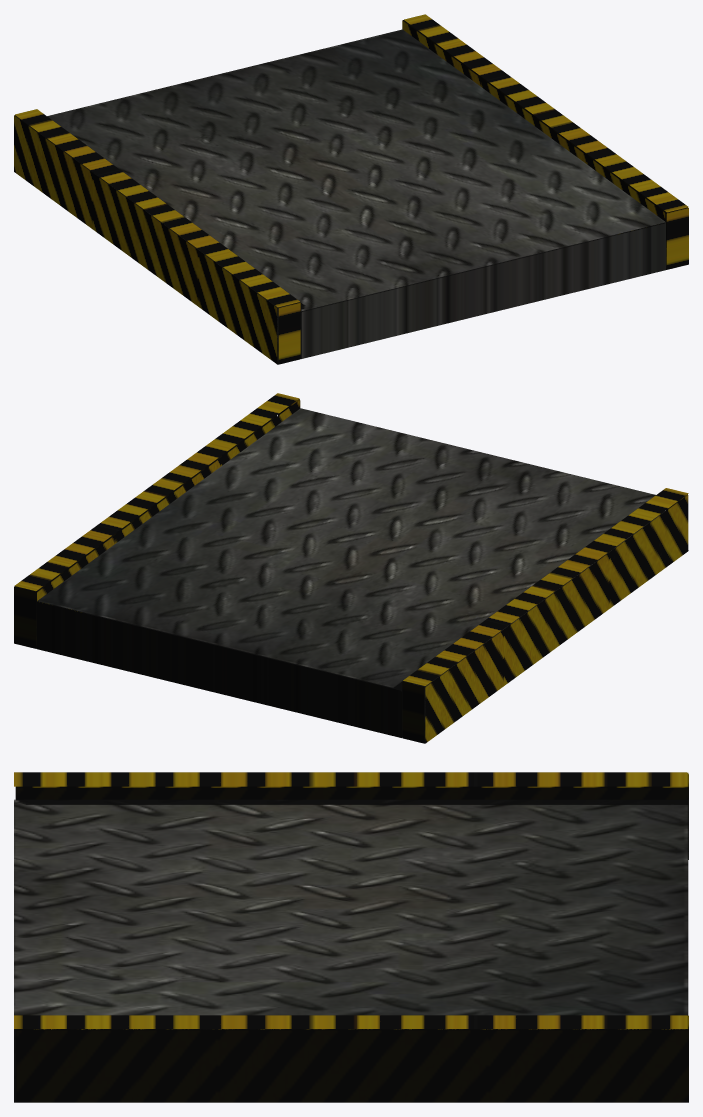
Rendered from floor_fbx.fbx.
3 views of the same model, one above another, from view 1: azimuth 30°, elevation 25°; view 2: azimuth 150°, elevation 25°; view 3: azimuth 270°, elevation 25° (orthographic). The views are drawn at different scales.
Visible parts, largest first — view 1: floor:Layer1, floor:Layer2; view 2: floor:Layer1, floor:Layer2; view 3: floor:Layer1, floor:Layer2.
Part boxes in pixels (x1,y1,x2,y2): floor:Layer1: (37, 29, 665, 358); floor:Layer2: (14, 14, 688, 364); floor:Layer1: (37, 408, 665, 737); floor:Layer2: (14, 393, 688, 743); floor:Layer1: (14, 799, 688, 1088); floor:Layer2: (14, 772, 688, 1102).
Bounding box in the file's own units: 4.5 × 0.6 × 5.
